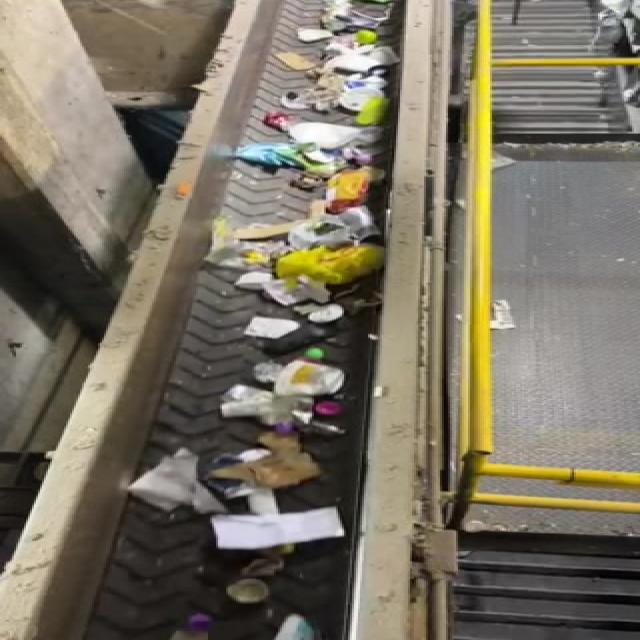paper: (120, 447, 233, 521), (196, 505, 364, 553), (235, 430, 331, 496)
pp: (215, 355, 414, 398), (188, 399, 364, 434), (197, 576, 314, 613)
